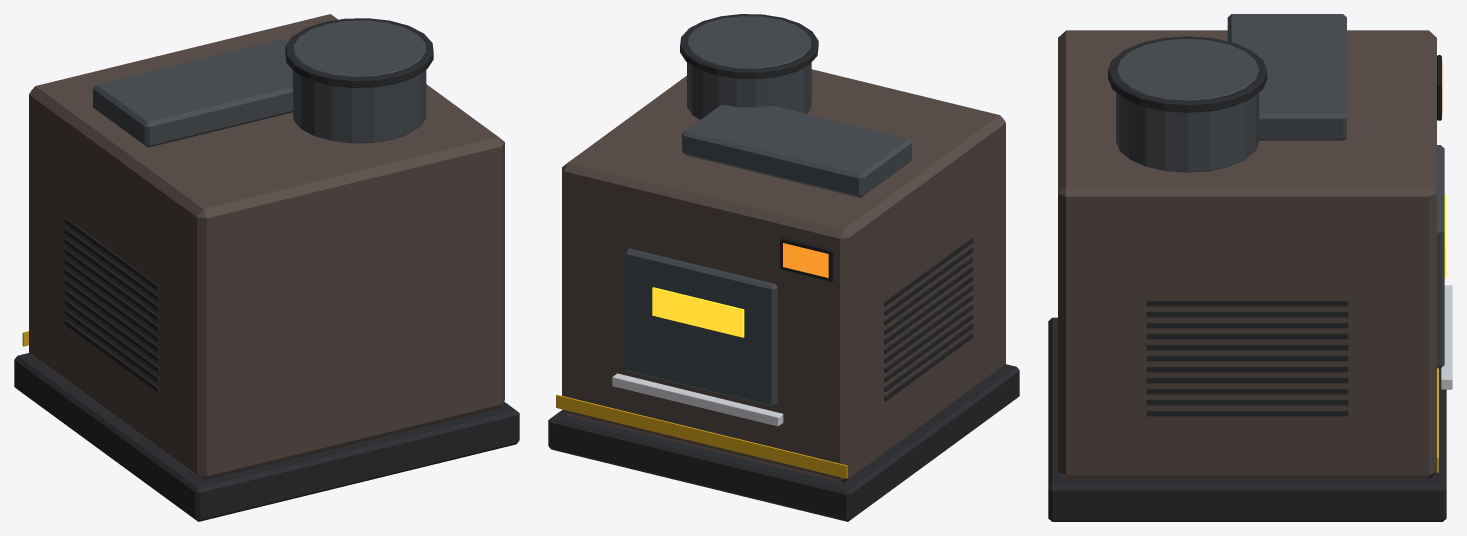
Rendered from smelter.glb.
3 views of the same model, side by side, from view 1: azimuth 30°, elevation 25°; view 2: azimuth 150°, elevation 25°; view 3: azimuth 270°, elevation 25° (orthographic). The views are drawn at different scales.
Visible parts, largest first — view 1: smelter; view 2: smelter; view 3: smelter.
Part boxes in pixels (bbox=[...]): smelter: bbox=[14, 14, 519, 521]; smelter: bbox=[548, 14, 1019, 521]; smelter: bbox=[1048, 14, 1452, 521].
Size of the model in its own units: 2 by 2.2 by 2.
